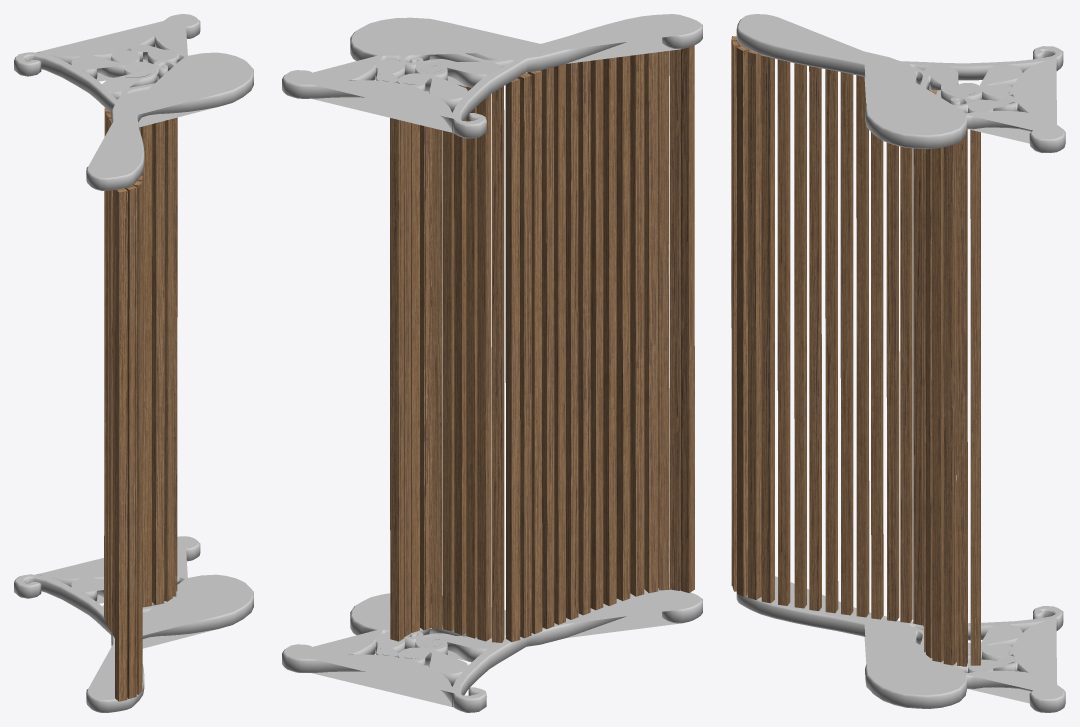
Rendered from parkBench04.obj.
3 renders of one model, left to right at view 1: azimuth 30°, elevation 25°; view 2: azimuth 150°, elevation 25°; view 3: azimuth 270°, elevation 25°, orthographic. The views are drawn at different scales.
Visible parts, largest first — view 1: Plane; view 2: Plane; view 3: Plane.
Boxes of the visible parts, x1,y1,x2,y2 form: Plane: (14,14,253,712); Plane: (282,14,702,712); Plane: (731,14,1065,712).
Bounding box in the file's own units: 132 × 280 × 147.
